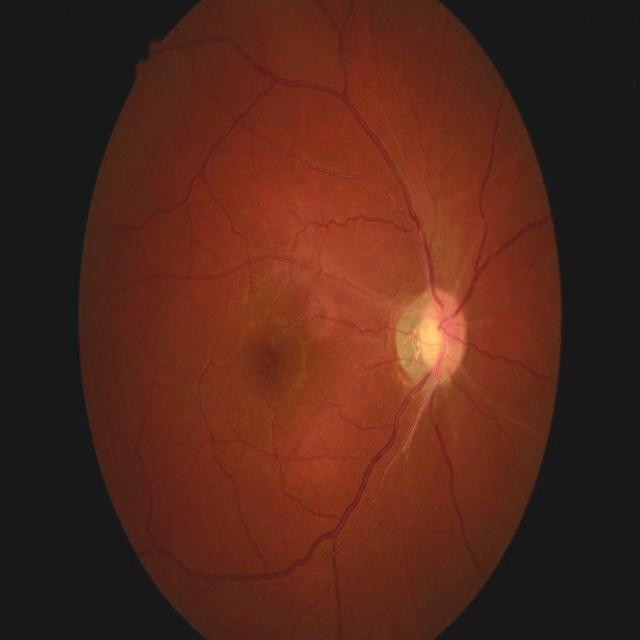cup: (422, 302, 448, 370)
disk: (417, 286, 469, 378)
